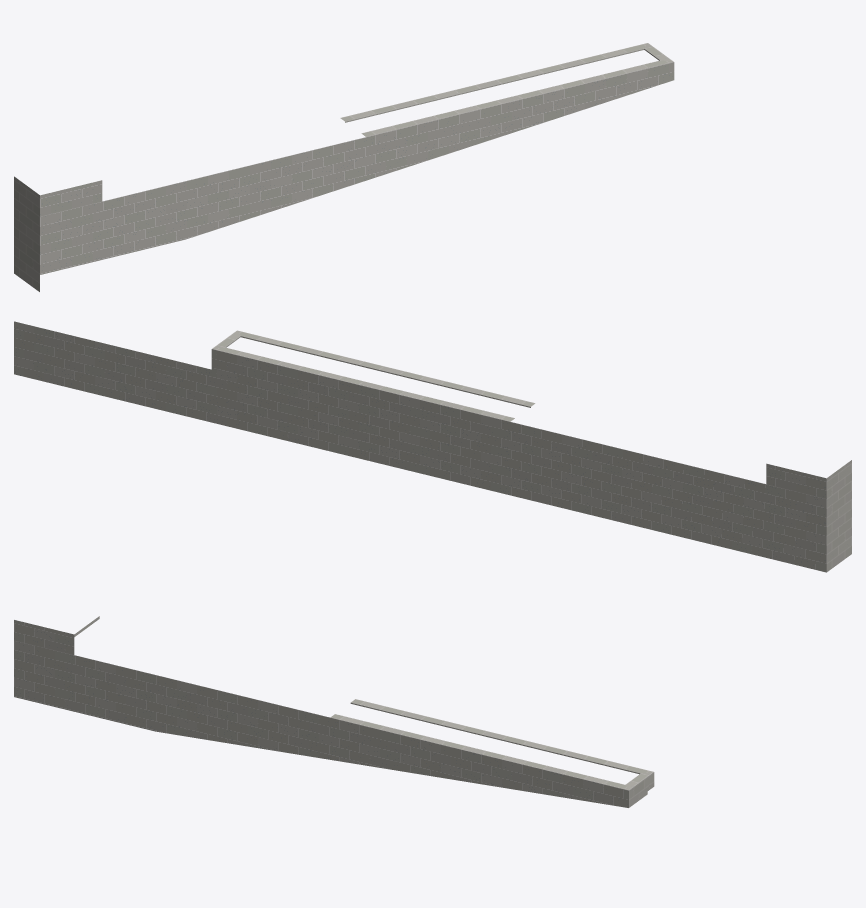
Rendered from kd_stage_135c43_4_135.glb.
The picture shows the model from 3 angles, top to bottom: view 1: azimuth 30°, elevation 25°; view 2: azimuth 150°, elevation 25°; view 3: azimuth 330°, elevation 25°; orthographic projection. The views are drawn at different scales.
Visible parts, largest first — view 1: kd_stage_135c43_4_135; view 2: kd_stage_135c43_4_135; view 3: kd_stage_135c43_4_135.
Boxes of the visible parts, x1=… form: kd_stage_135c43_4_135: x1=14, y1=43, x2=674, y2=291; kd_stage_135c43_4_135: x1=14, y1=321, x2=851, y2=572; kd_stage_135c43_4_135: x1=14, y1=616, x2=654, y2=807.
Bounding box in the file's own units: 14.4 × 1.6 × 0.7777.
1 material, 1 textured.
